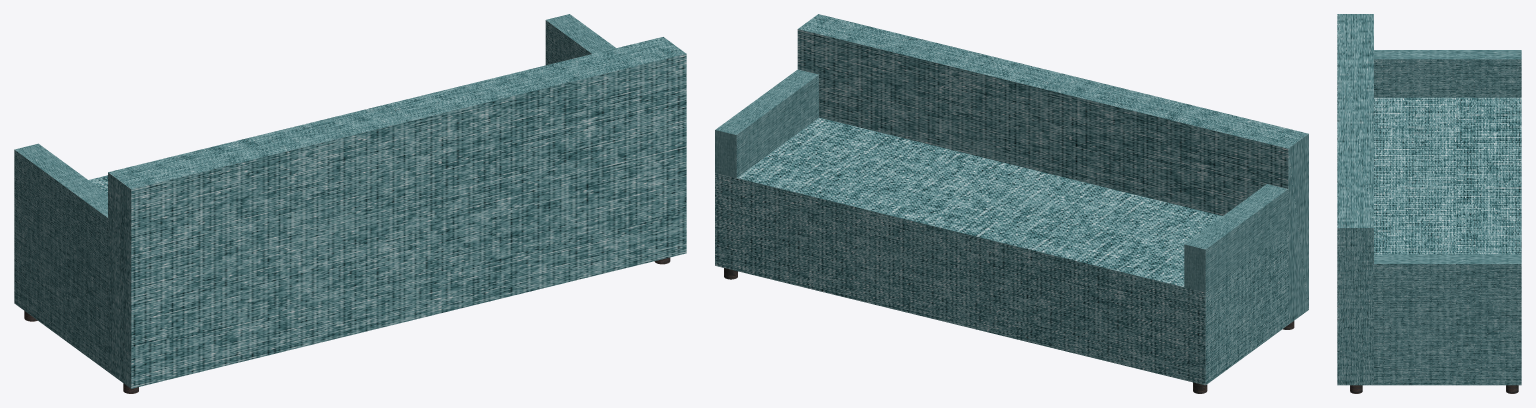
Rendered from sofa.fbx.
The picture shows the model from 3 angles, left to right: view 1: azimuth 30°, elevation 25°; view 2: azimuth 150°, elevation 25°; view 3: azimuth 270°, elevation 25°; orthographic projection. The views are drawn at different scales.
Visible parts, largest first — view 1: Cube, Cube.001, Cube.003, Cube.002; view 2: Cube.001, Cube, Cube.003, Cube.002; view 3: Cube.001, Cube, Cube.002, Cube.003.
Boxes of the visible parts, x1,y1,x2,y2 form: Cube: [108, 37, 686, 388]; Cube.001: [14, 175, 108, 371]; Cube.003: [14, 143, 108, 266]; Cube.002: [545, 14, 615, 65]; Cube.001: [715, 117, 1288, 385]; Cube: [797, 14, 1308, 323]; Cube.003: [1184, 184, 1288, 292]; Cube.002: [715, 69, 818, 177]; Cube.001: [1372, 97, 1521, 385]; Cube: [1337, 14, 1373, 385]; Cube.002: [1373, 254, 1521, 302]; Cube.003: [1374, 50, 1521, 97].
Size of the model in its own units: 225 by 82.5 by 81.98.
